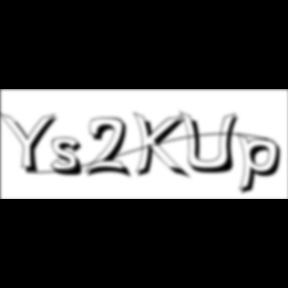2: (86, 117, 136, 181)
K: (134, 110, 192, 182)
U: (180, 110, 244, 176)
Y: (0, 110, 64, 176)
p: (238, 132, 288, 198)
s: (50, 137, 90, 179)
